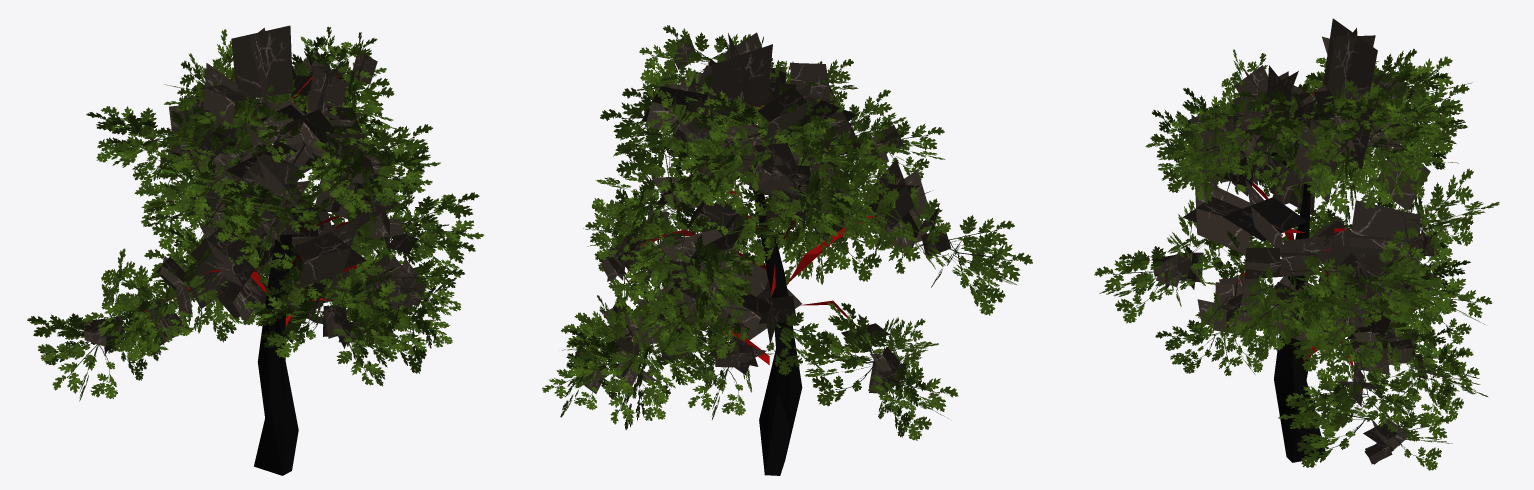
The model's file is maple3 lod1.FBX.
3 renders of one model, left to right at view 1: azimuth 30°, elevation 25°; view 2: azimuth 150°, elevation 25°; view 3: azimuth 270°, elevation 25°, orthographic. The views are drawn at different scales.
Parts seen in each view (by area): view 1: maple3_LOD1; view 2: maple3_LOD1; view 3: maple3_LOD1.
Boxes of the visible parts, bbox=[...] form: maple3_LOD1: bbox=[27, 25, 484, 475]; maple3_LOD1: bbox=[542, 25, 1032, 475]; maple3_LOD1: bbox=[1094, 18, 1499, 470].
Size of the model in its own units: 113498 by 110981 by 101657.
